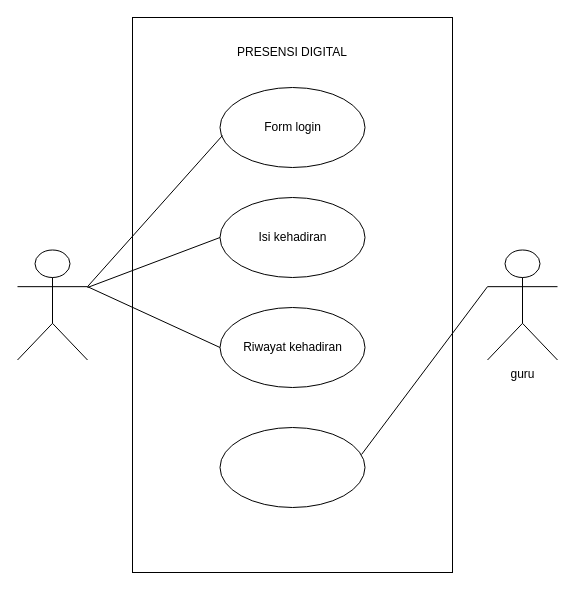
Image size: 575x590. Some labels were removed from this diagram. Each missing label, with the centre of its shape:
Laporan kehadiran siswa: the point at 292,467
sekretaris: the point at 52,304
